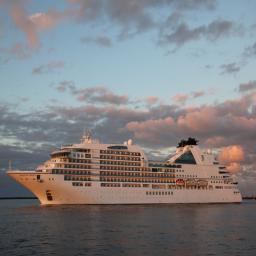cruises: (5, 122, 247, 211)
